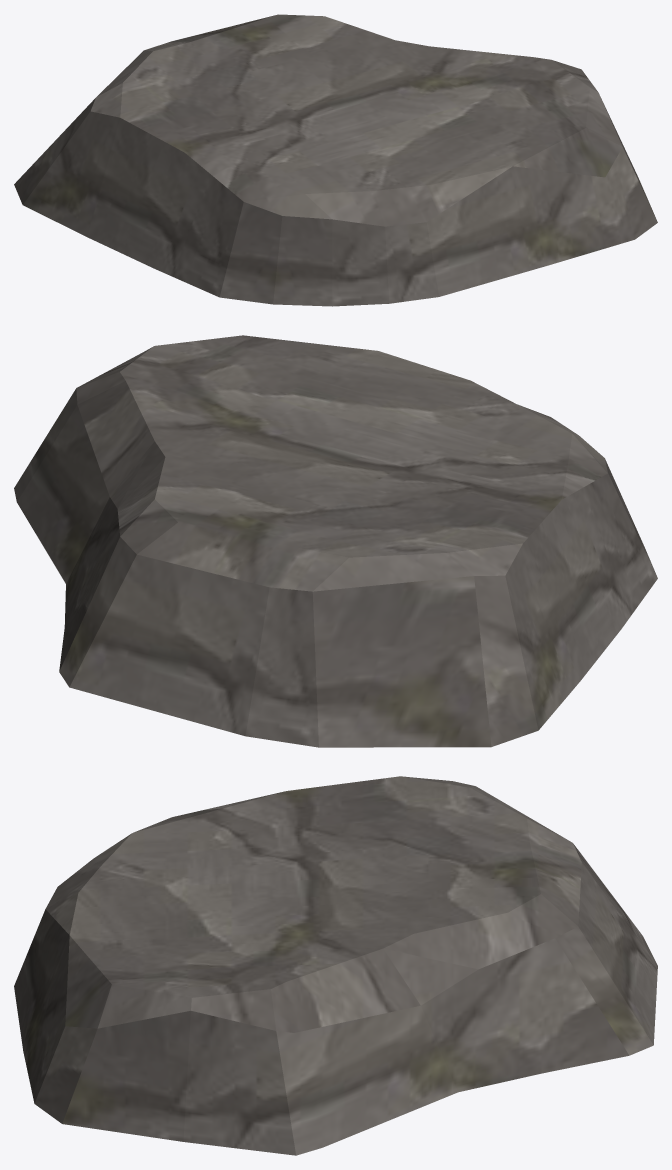
The model's file is gpebble_round_2.glb.
The picture shows the model from 3 angles, top to bottom: view 1: azimuth 30°, elevation 25°; view 2: azimuth 150°, elevation 25°; view 3: azimuth 270°, elevation 25°; orthographic projection. The views are drawn at different scales.
Parts seen in each view (by area): view 1: model; view 2: model; view 3: model.
Part boxes in pixels (<box>): model: <box>14,14,657,306</box>; model: <box>14,335,657,747</box>; model: <box>14,776,657,1155</box>.
Size of the model in its own units: 0.4477 by 0.0954 by 0.4134.
1 material, 1 textured.
